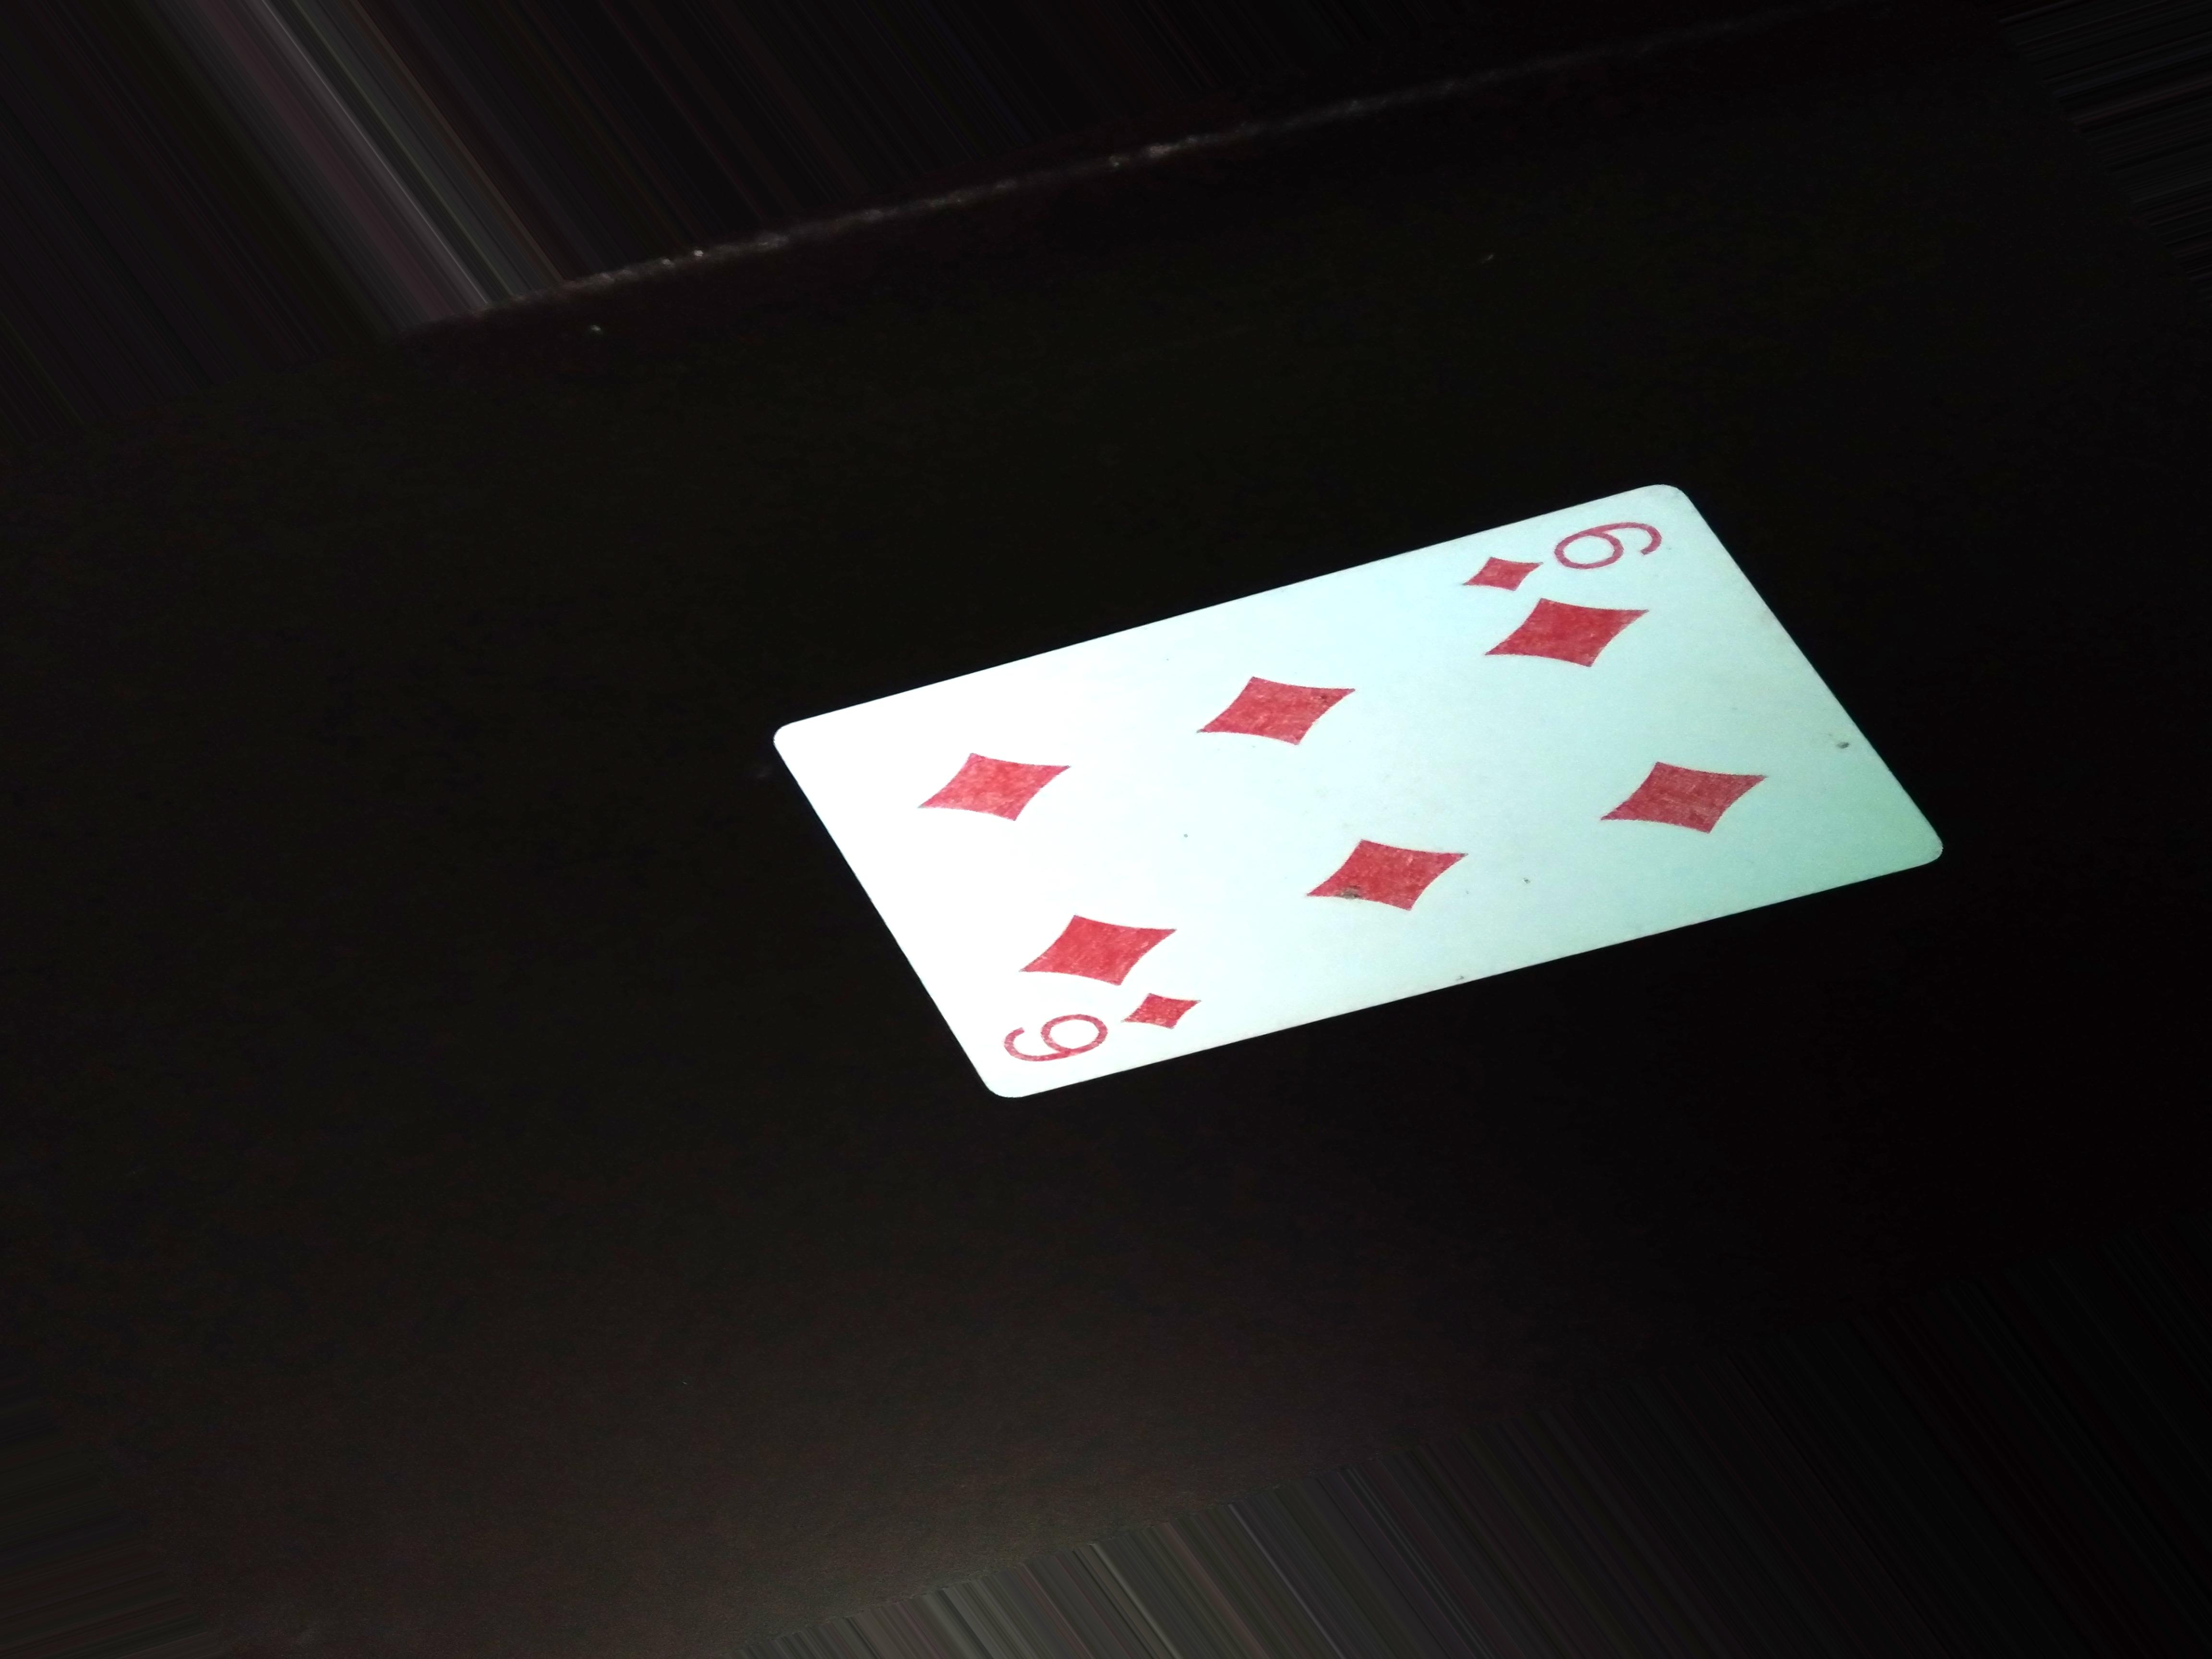6D: (1451, 505, 1681, 613)
